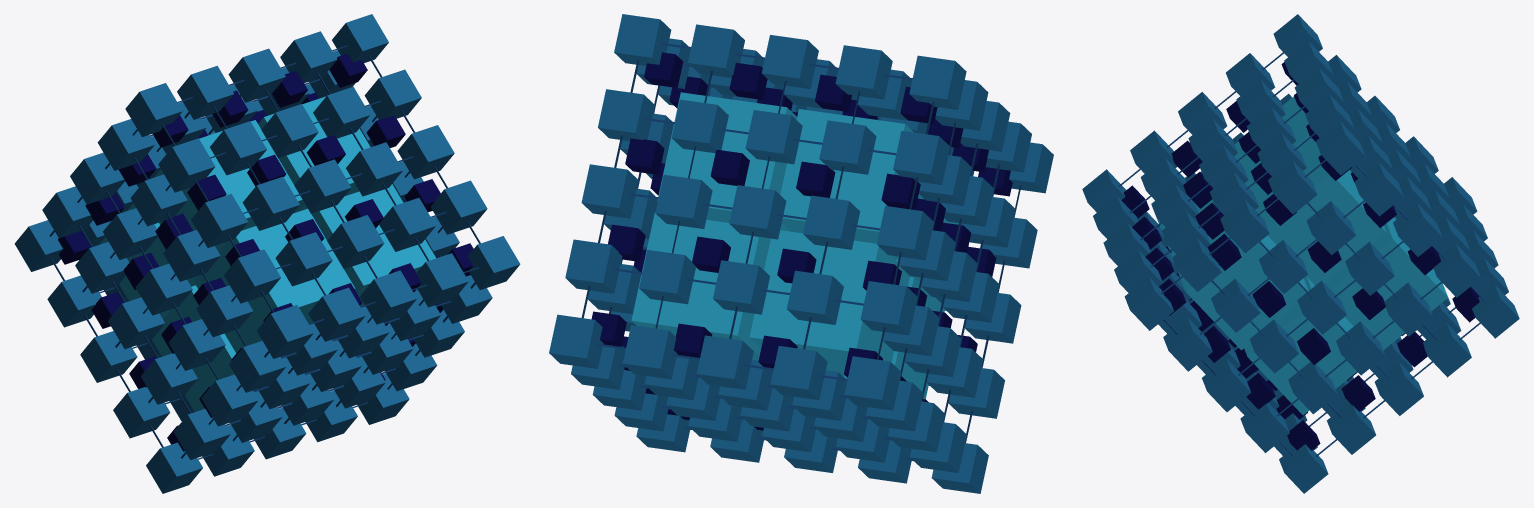
File: Planet27.glb
The picture shows the model from 3 angles, left to right: view 1: azimuth 30°, elevation 25°; view 2: azimuth 150°, elevation 25°; view 3: azimuth 270°, elevation 25°; orthographic projection. The views are drawn at different scales.
Parts seen in each view (by area): view 1: Planet_27_fix; view 2: Planet_27_fix; view 3: Planet_27_fix.
Part boxes in pixels (box(x1,y1,x2,y2)): Planet_27_fix: box(14, 14, 520, 493); Planet_27_fix: box(549, 14, 1053, 493); Planet_27_fix: box(1082, 14, 1519, 493).
Size of the model in its own units: 2.9 by 3.36 by 3.68.
